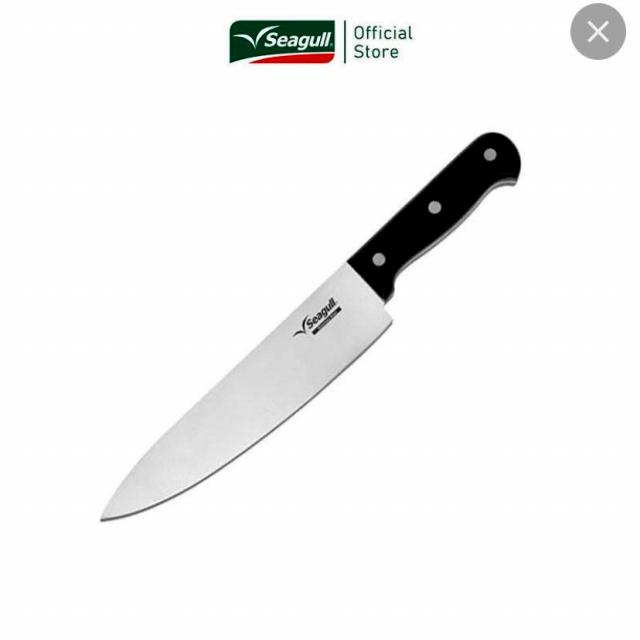knife: (85, 130, 523, 524)
